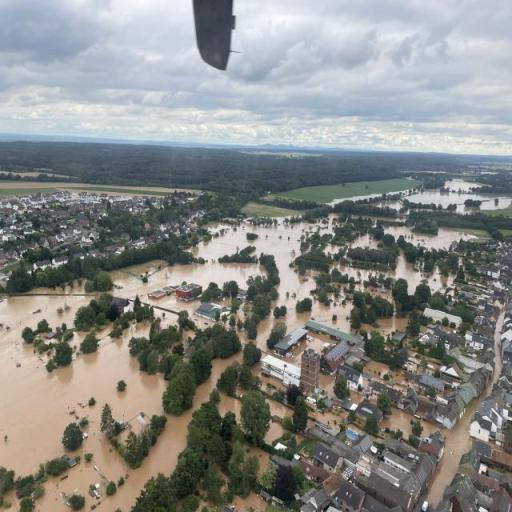flood: (0, 282, 193, 512), (111, 217, 353, 352), (410, 180, 512, 212), (386, 226, 481, 249), (0, 494, 18, 512)
house: (310, 476, 364, 512), (259, 351, 300, 397), (306, 320, 362, 346), (310, 442, 345, 472), (323, 341, 352, 372), (448, 474, 474, 507), (382, 448, 413, 475), (424, 308, 461, 328), (278, 328, 308, 352), (303, 350, 320, 392), (356, 400, 384, 421), (467, 331, 491, 355), (471, 416, 492, 442), (420, 372, 446, 393), (176, 283, 202, 301), (352, 434, 372, 456), (402, 390, 420, 414), (348, 367, 364, 392), (440, 408, 458, 430), (451, 395, 467, 417), (419, 330, 434, 346), (445, 364, 463, 377)
